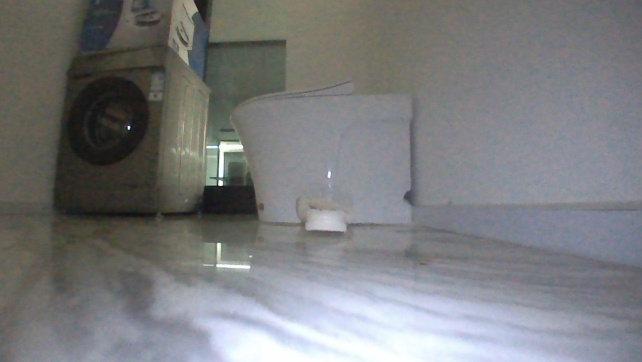shoe: (289, 190, 355, 240)
toilet: (222, 74, 420, 229)
washing_machine: (45, 40, 210, 227)
